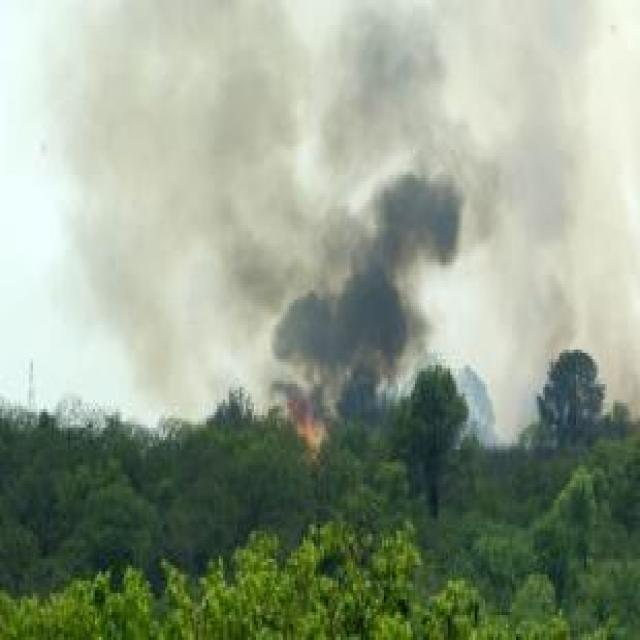Fire: (284, 397, 343, 463)
Smoke: (31, 0, 360, 402), (467, 0, 640, 422), (262, 157, 465, 411)
